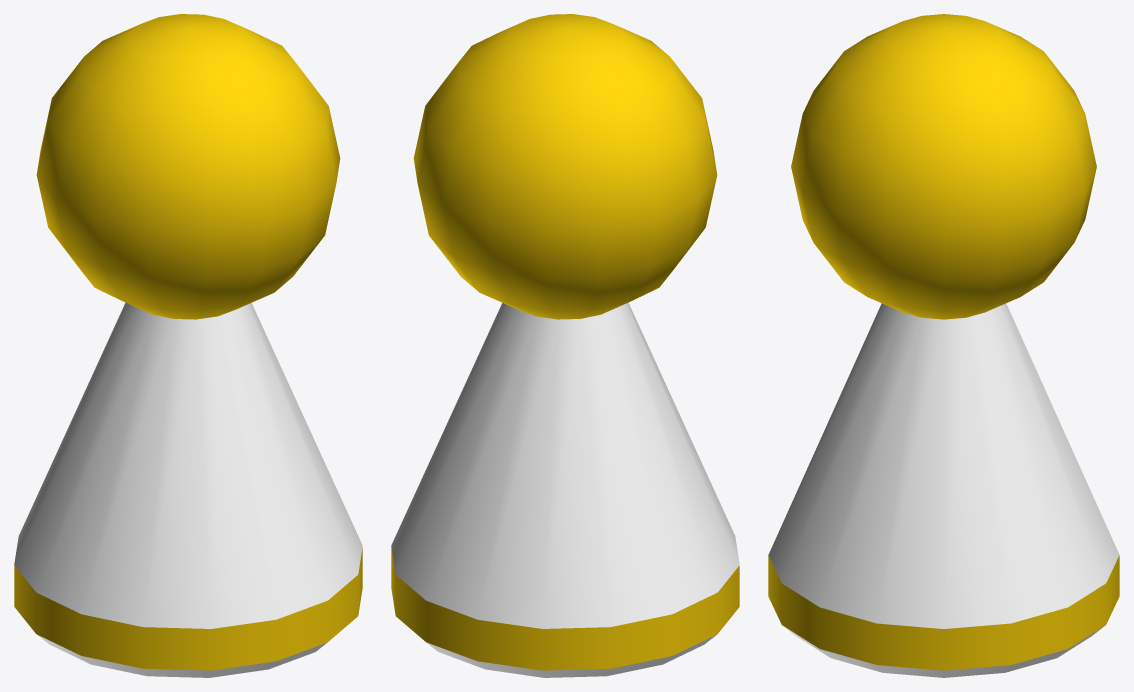
File: pawn_A_blue.fbx
The picture shows the model from 3 angles, left to right: view 1: azimuth 30°, elevation 25°; view 2: azimuth 150°, elevation 25°; view 3: azimuth 270°, elevation 25°; orthographic projection.
Parts seen in each view (by area): view 1: pawn_A_blue; view 2: pawn_A_blue; view 3: pawn_A_blue.
Boxes of the visible parts, left/top/right/bottom form: pawn_A_blue: left=14, top=14, right=362, bottom=677; pawn_A_blue: left=391, top=14, right=739, bottom=677; pawn_A_blue: left=768, top=14, right=1119, bottom=677.
Bounding box in the file's own units: 50 × 91.46 × 50.
